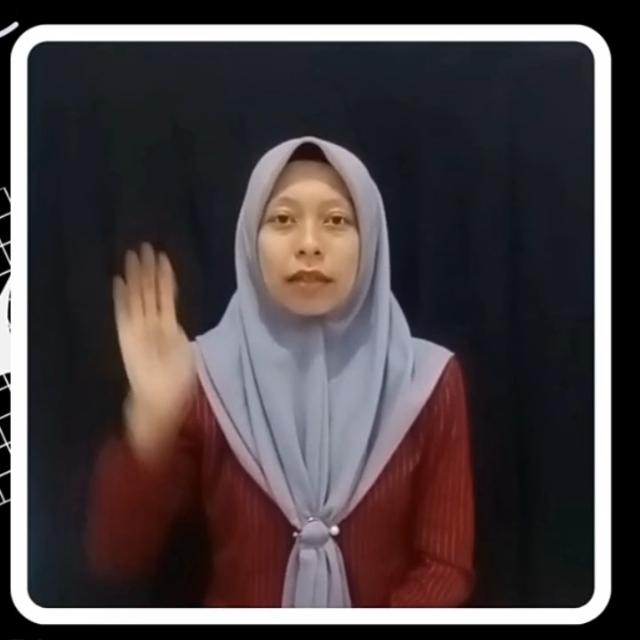B: (109, 239, 197, 416)
